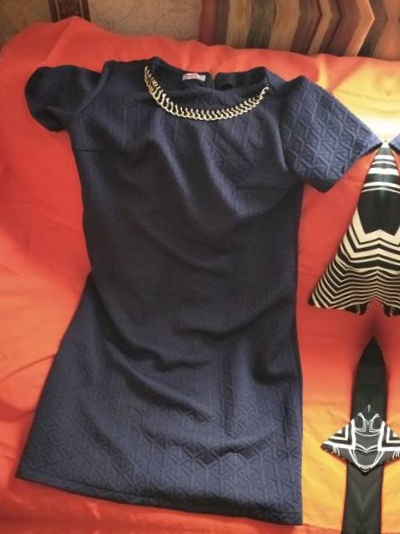Dress: (0, 47, 364, 529), (389, 71, 400, 534), (0, 529, 333, 534)
